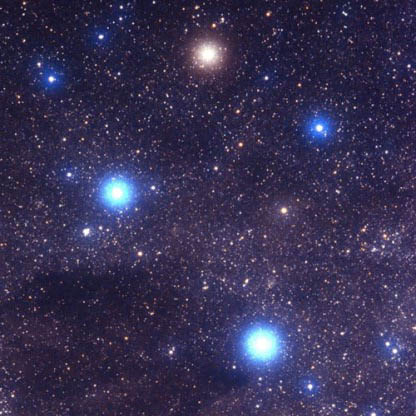Southern Cross: (84, 158, 151, 227), (232, 313, 290, 383), (180, 35, 238, 86), (306, 109, 342, 145)
